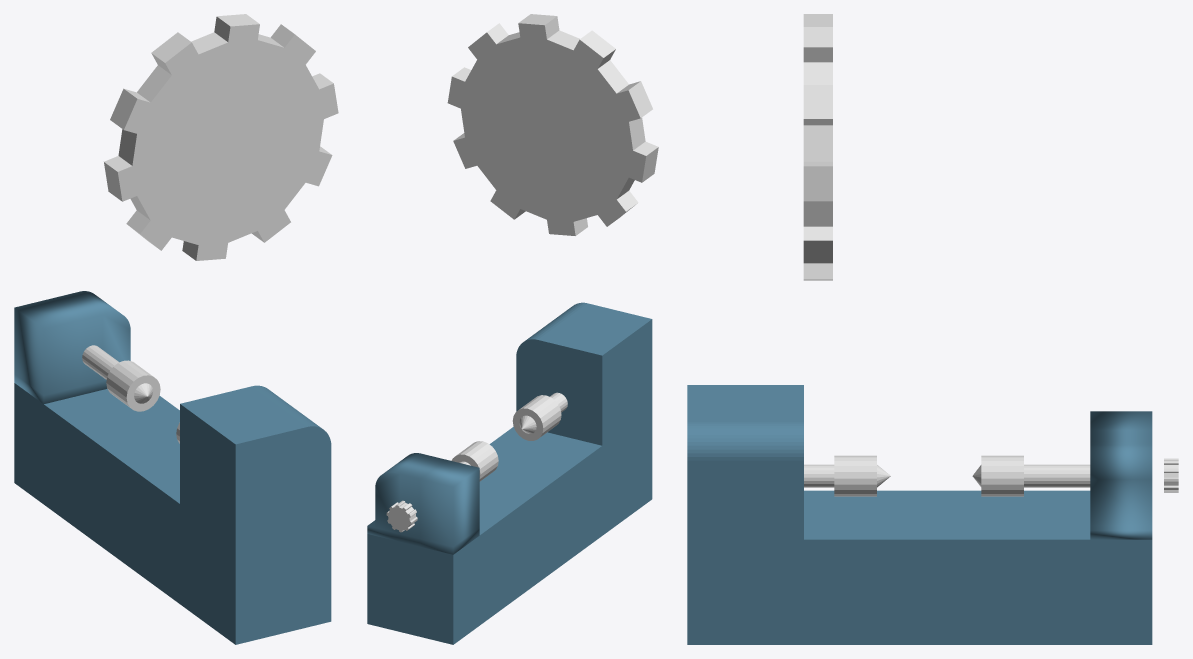
The model's file is holz_drehmaschineGLTF.gltf.
The picture shows the model from 3 angles, left to right: view 1: azimuth 30°, elevation 25°; view 2: azimuth 150°, elevation 25°; view 3: azimuth 270°, elevation 25°; orthographic projection. The views are drawn at different scales.
Parts seen in each view (by area): view 1: feststellschraube.001, Cube, maschina, einspanner, links; view 2: feststellschraube.001, Cube, maschina, einspanner, spitz, links, feststellschraube; view 3: Cube, maschina, einspanner, feststellschraube.001, links, spitz.
Part boxes in pixels (box(x1,y1,x2,y2)): feststellschraube.001: box(104, 14, 338, 260); Cube: box(14, 383, 331, 644); maschina: box(180, 385, 331, 544); einspanner: box(14, 291, 130, 403); links: box(82, 345, 160, 411); feststellschraube.001: box(447, 14, 658, 235); Cube: box(367, 409, 652, 644); maschina: box(516, 302, 652, 445); einspanner: box(367, 453, 479, 554); spitz: box(512, 392, 567, 440); links: box(451, 441, 498, 481); feststellschraube: box(386, 500, 417, 532); Cube: box(687, 490, 1152, 644); maschina: box(687, 385, 803, 539); einspanner: box(1090, 411, 1152, 539); feststellschraube.001: box(803, 14, 832, 280); links: box(972, 455, 1090, 496); spitz: box(804, 455, 890, 496).
Bounding box in the file's own units: 2.31 × 5.64 × 4.23.
